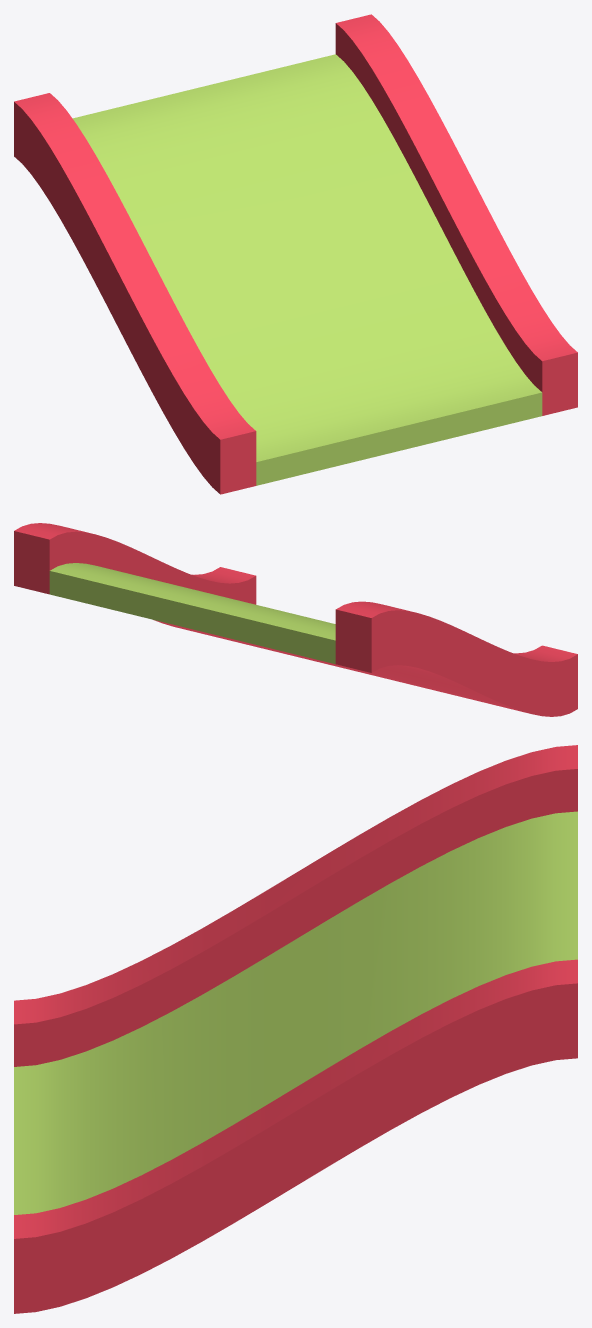
File: ramp.glb
The picture shows the model from 3 angles, top to bottom: view 1: azimuth 30°, elevation 25°; view 2: azimuth 150°, elevation 25°; view 3: azimuth 270°, elevation 25°; orthographic projection. The views are drawn at different scales.
Parts seen in each view (by area): view 1: ramp; view 2: ramp; view 3: ramp.
Part boxes in pixels (box(x1,y1,x2,y2)): ramp: box(14, 14, 577, 494); ramp: box(14, 523, 577, 716); ramp: box(14, 745, 577, 1313).
Size of the model in its own units: 0.9999 by 0.6467 by 0.9999.
